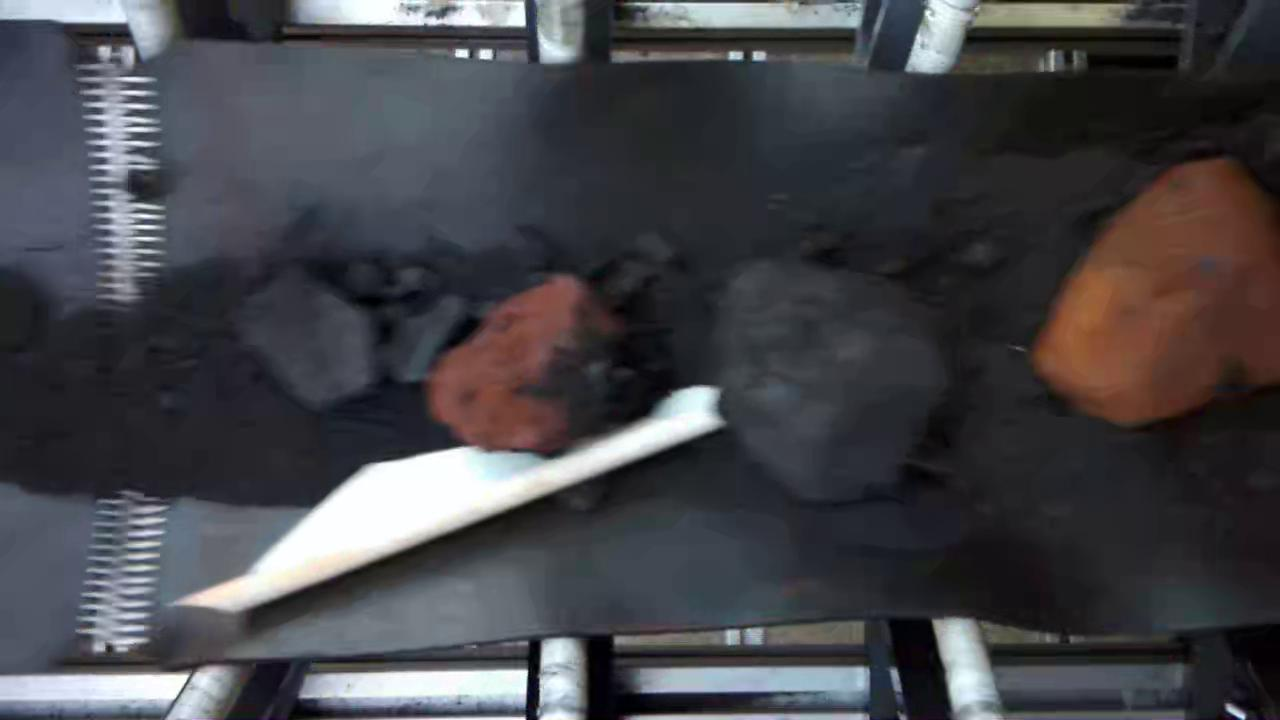conveyor: (5, 75, 1280, 629)
